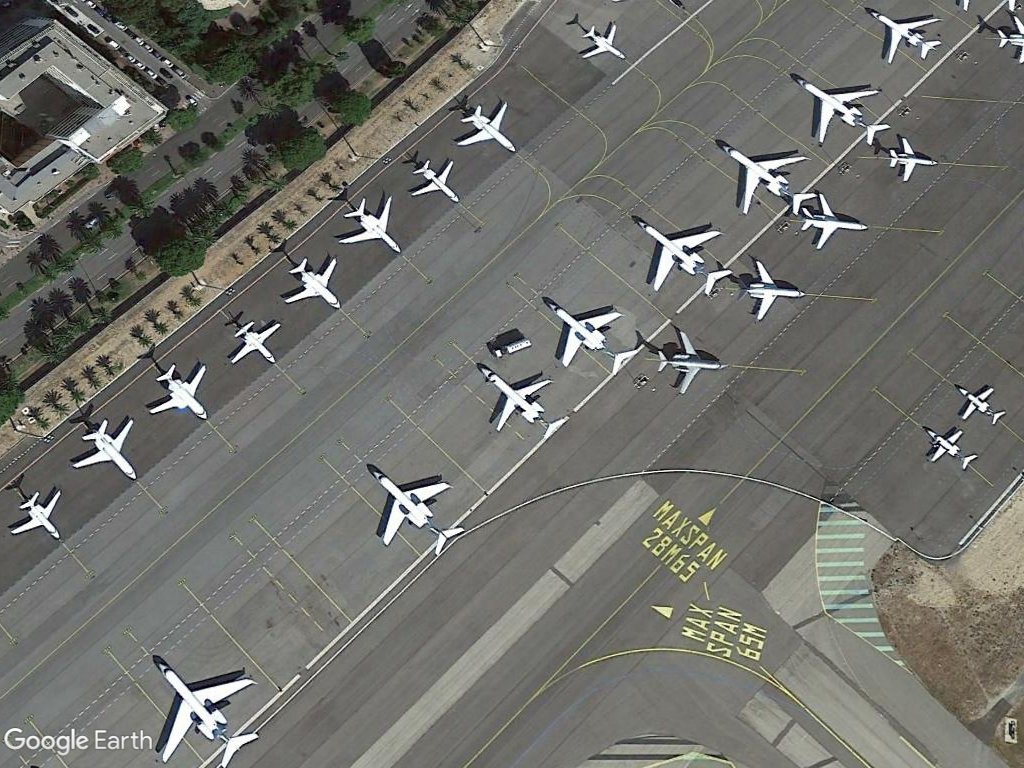chartered: (144, 654, 265, 768), (366, 461, 468, 561), (628, 211, 733, 296), (471, 359, 571, 444), (542, 294, 640, 380), (712, 136, 818, 215), (654, 322, 729, 401), (727, 258, 808, 320), (142, 360, 217, 425), (74, 415, 143, 484), (339, 194, 407, 257), (217, 309, 287, 369), (791, 195, 865, 251), (282, 253, 346, 314), (1, 488, 69, 543), (919, 420, 986, 475), (881, 130, 940, 187), (407, 157, 465, 206), (951, 379, 1009, 426)
